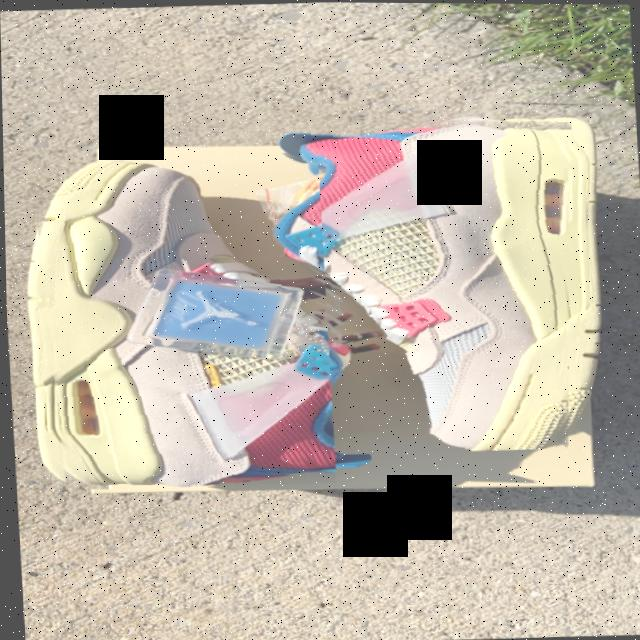shoe: (29, 145, 335, 492), (297, 107, 587, 456)
